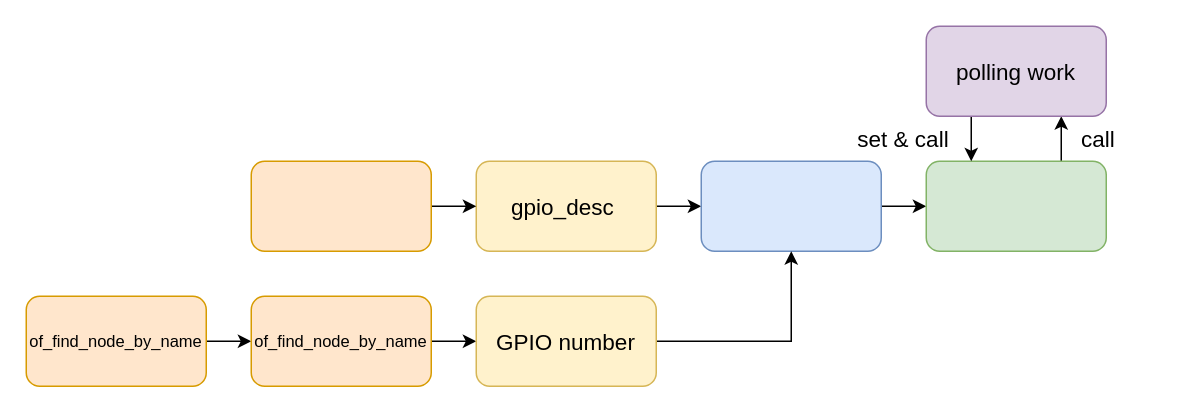
Some shapes in this 1193 by 413 pixel diagram are drawn without their labels. Here are the shapes that lost their labels. From the top down, the centre of each, then its label:
(340,205): devm_gpiod_get
(790,205): init
(1015,205): schedule_delayed_work
